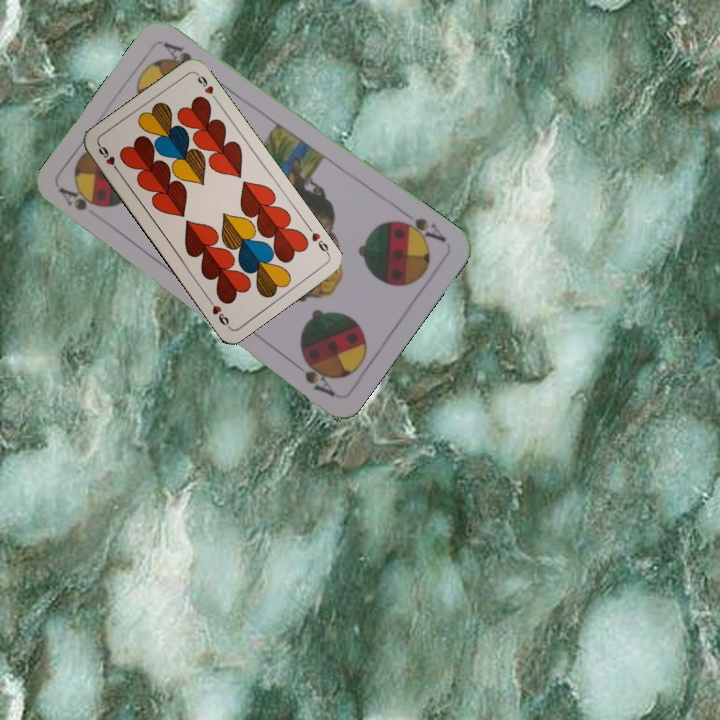H9: (94, 141, 123, 176), (304, 222, 332, 258)
SA: (392, 206, 448, 247), (55, 183, 98, 213)
